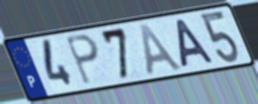4: (40, 37, 77, 92)
5: (197, 10, 242, 65)
7: (100, 26, 131, 82)
A: (137, 23, 186, 77), (174, 17, 217, 70)
P: (63, 33, 102, 87)
